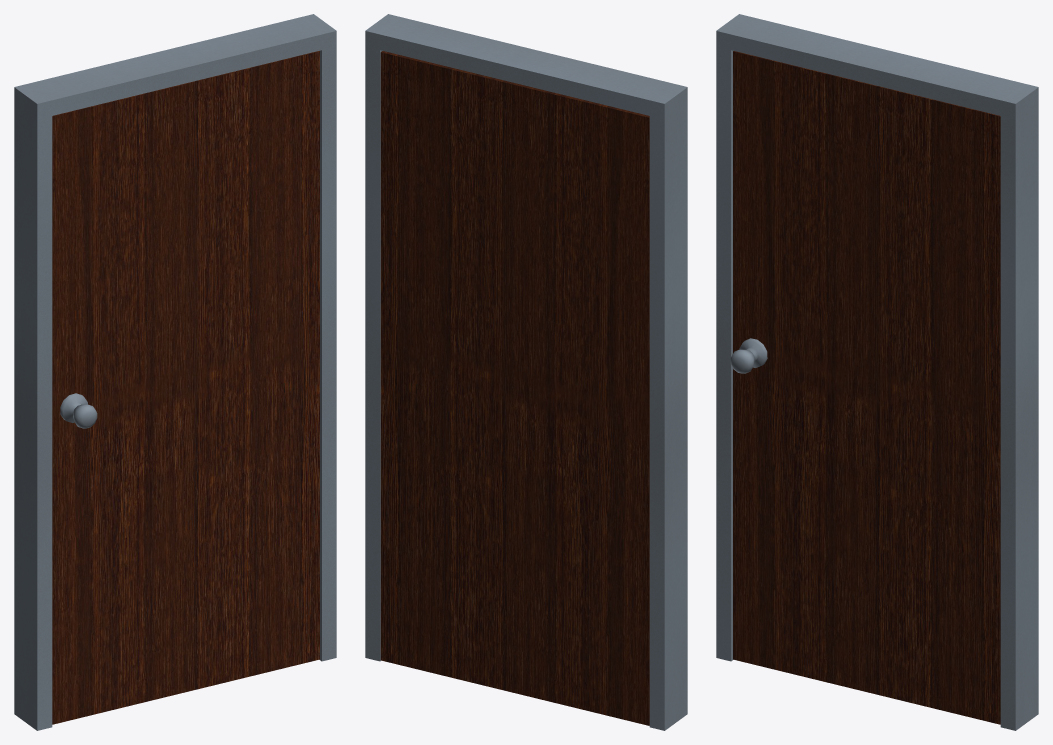
File: PuertaMadera.fbx
3 views of the same model, side by side, from view 1: azimuth 30°, elevation 25°; view 2: azimuth 150°, elevation 25°; view 3: azimuth 330°, elevation 25° (orthographic).
Parts seen in each view (by area): view 1: PuertaMadera; view 2: PuertaMadera; view 3: PuertaMadera.
Boxes of the visible parts, box(x1,y1,x2,y2) form: PuertaMadera: box(14, 14, 336, 730); PuertaMadera: box(365, 14, 687, 730); PuertaMadera: box(716, 14, 1038, 730).
Bounding box in the file's own units: 200 × 400 × 43.96.
